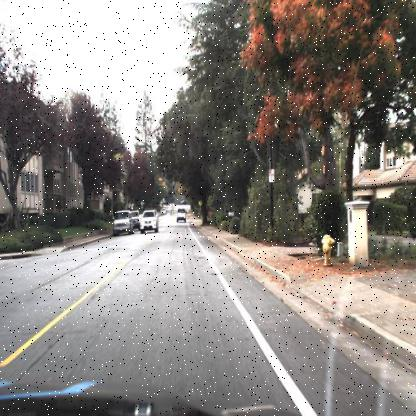car: (112, 209, 134, 235), (139, 206, 158, 232), (174, 206, 188, 224)
